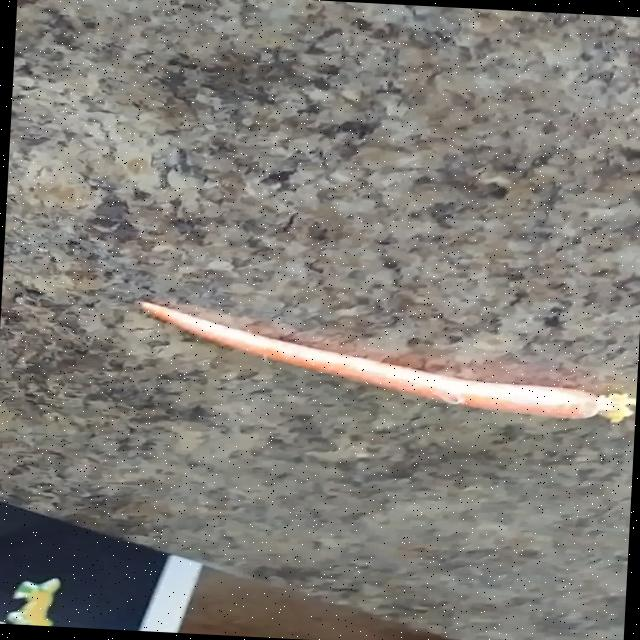carrot: (136, 301, 636, 422)
